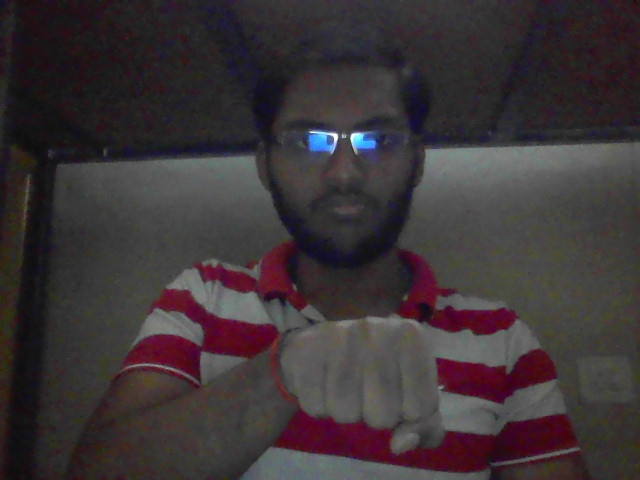Not_Hungry: (256, 302, 469, 480)
